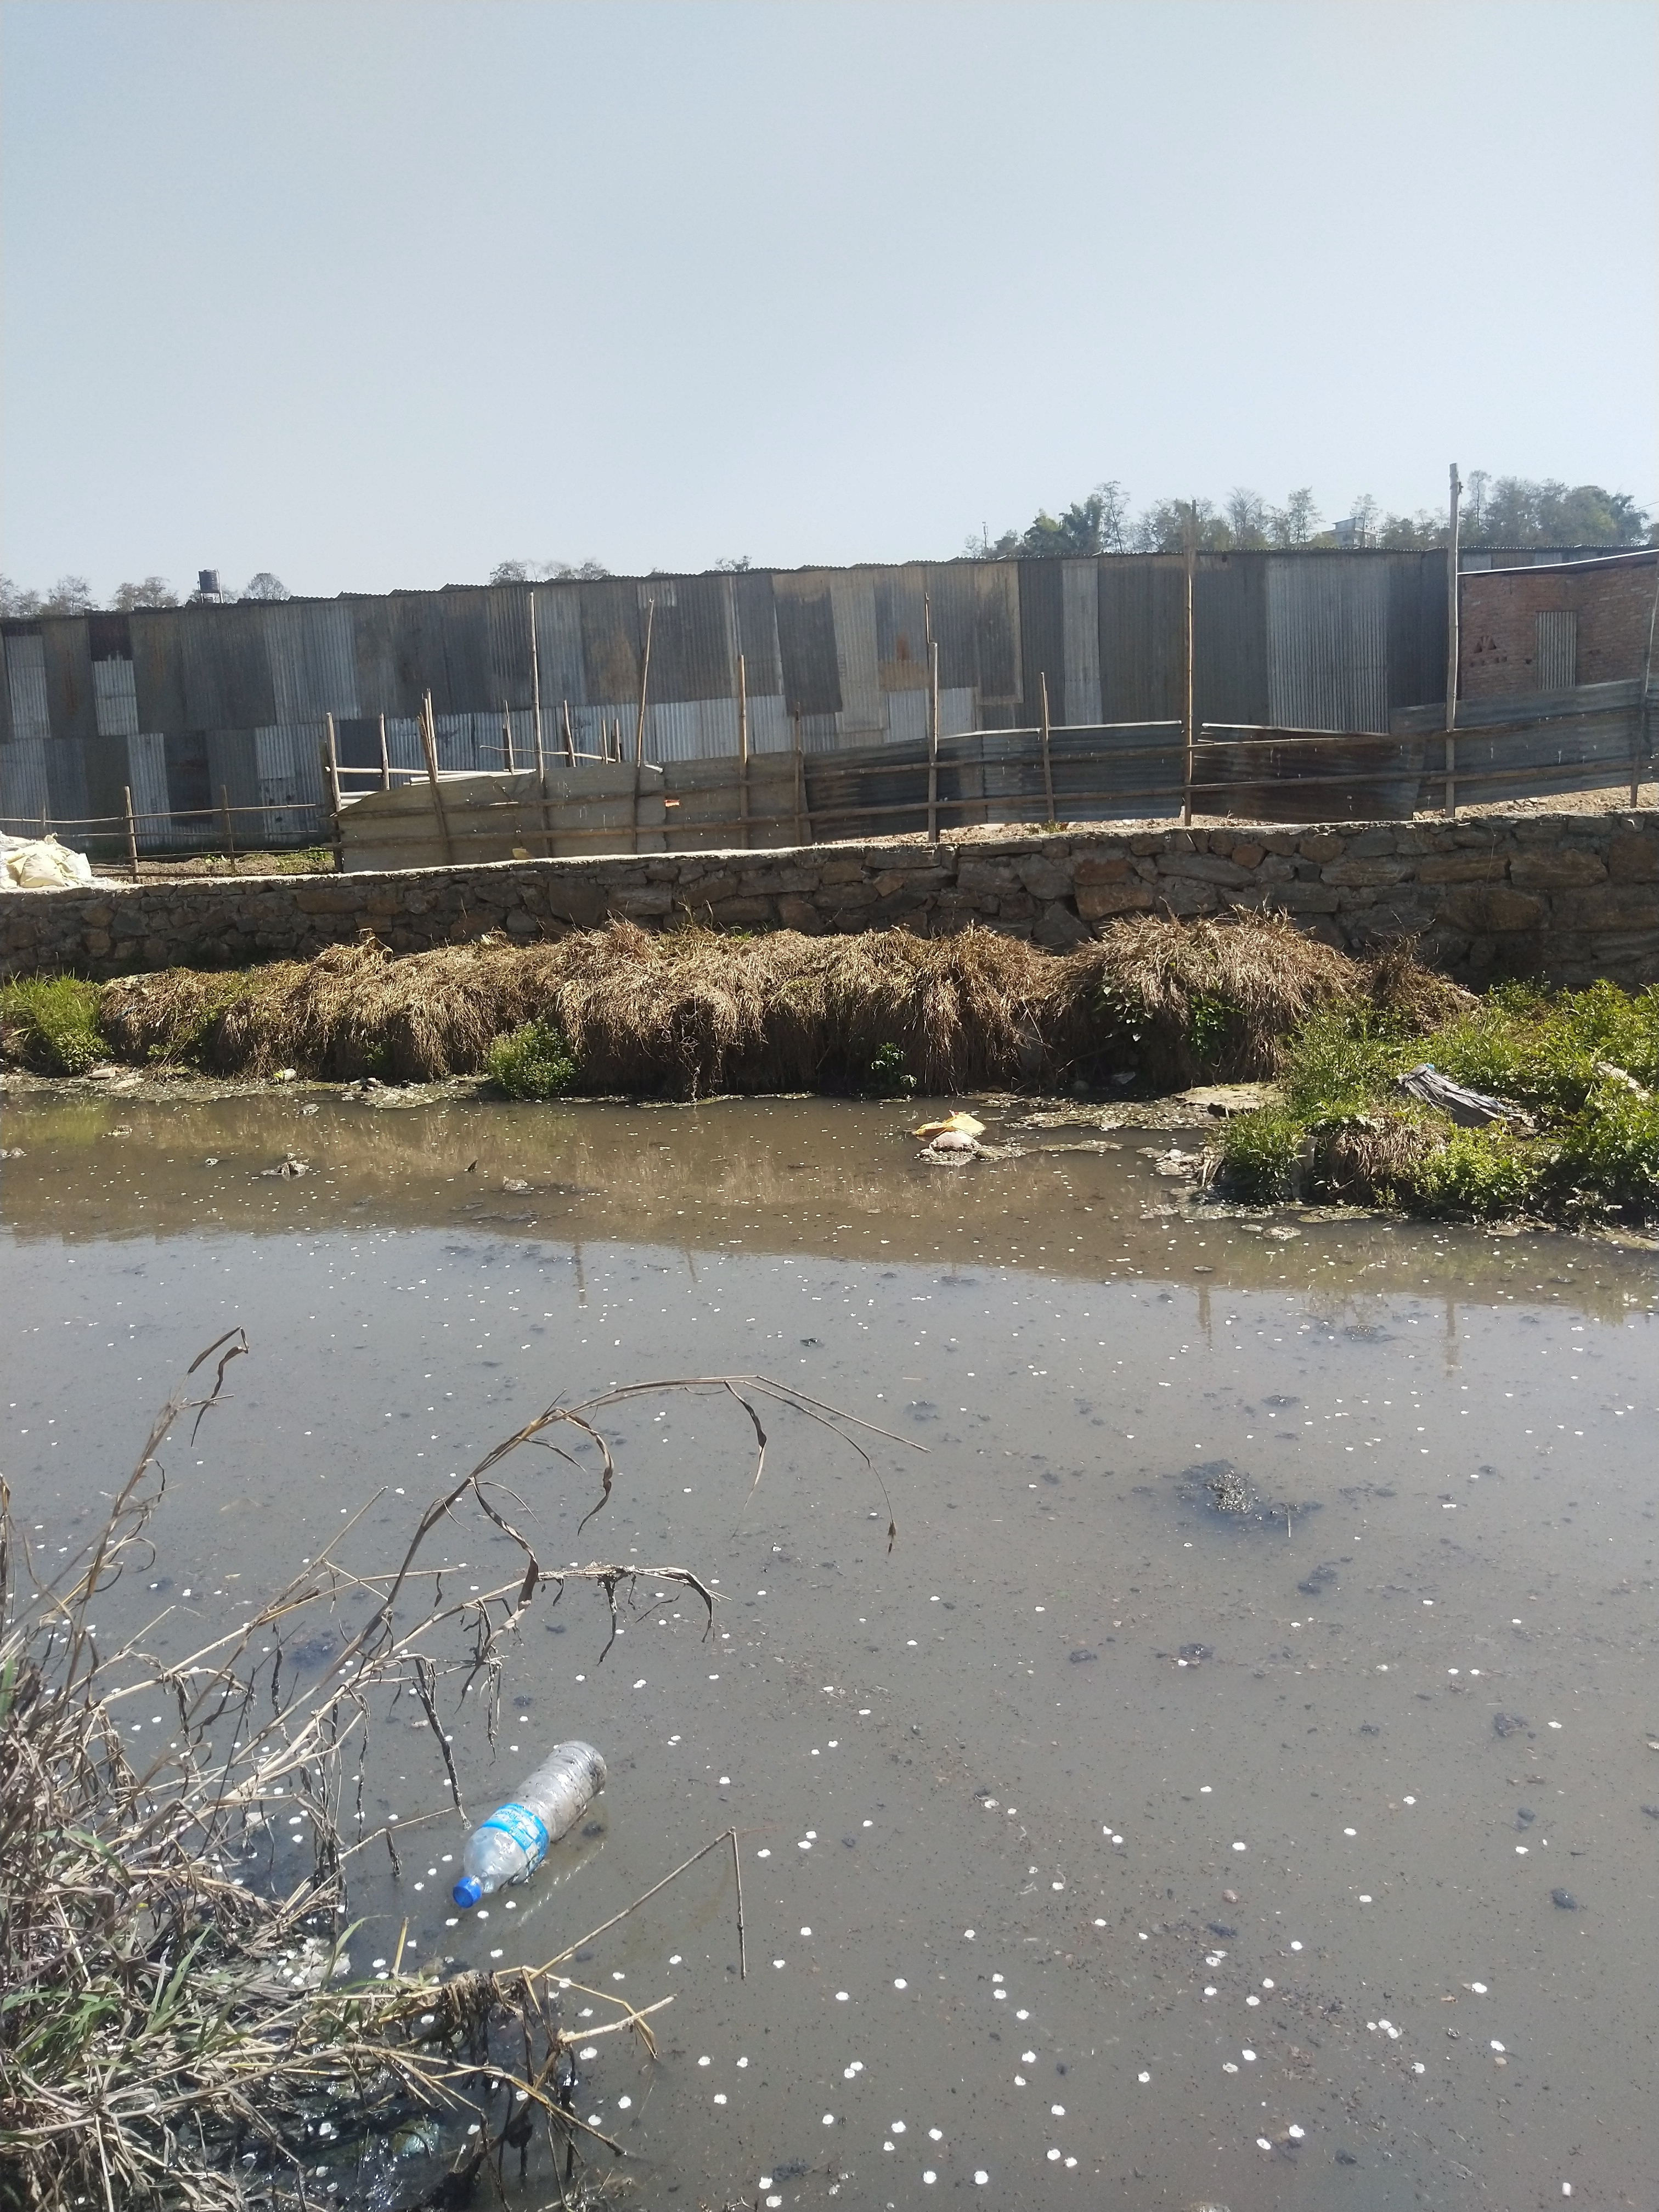Plastic Bottle: (453, 1740, 606, 1909), (270, 1068, 298, 1083), (87, 1068, 117, 1078)
